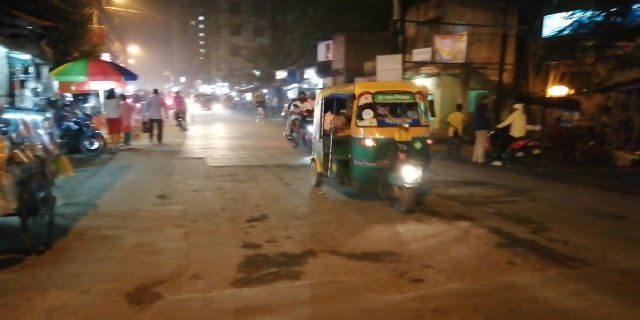Autorickshaw: (312, 82, 438, 203)
